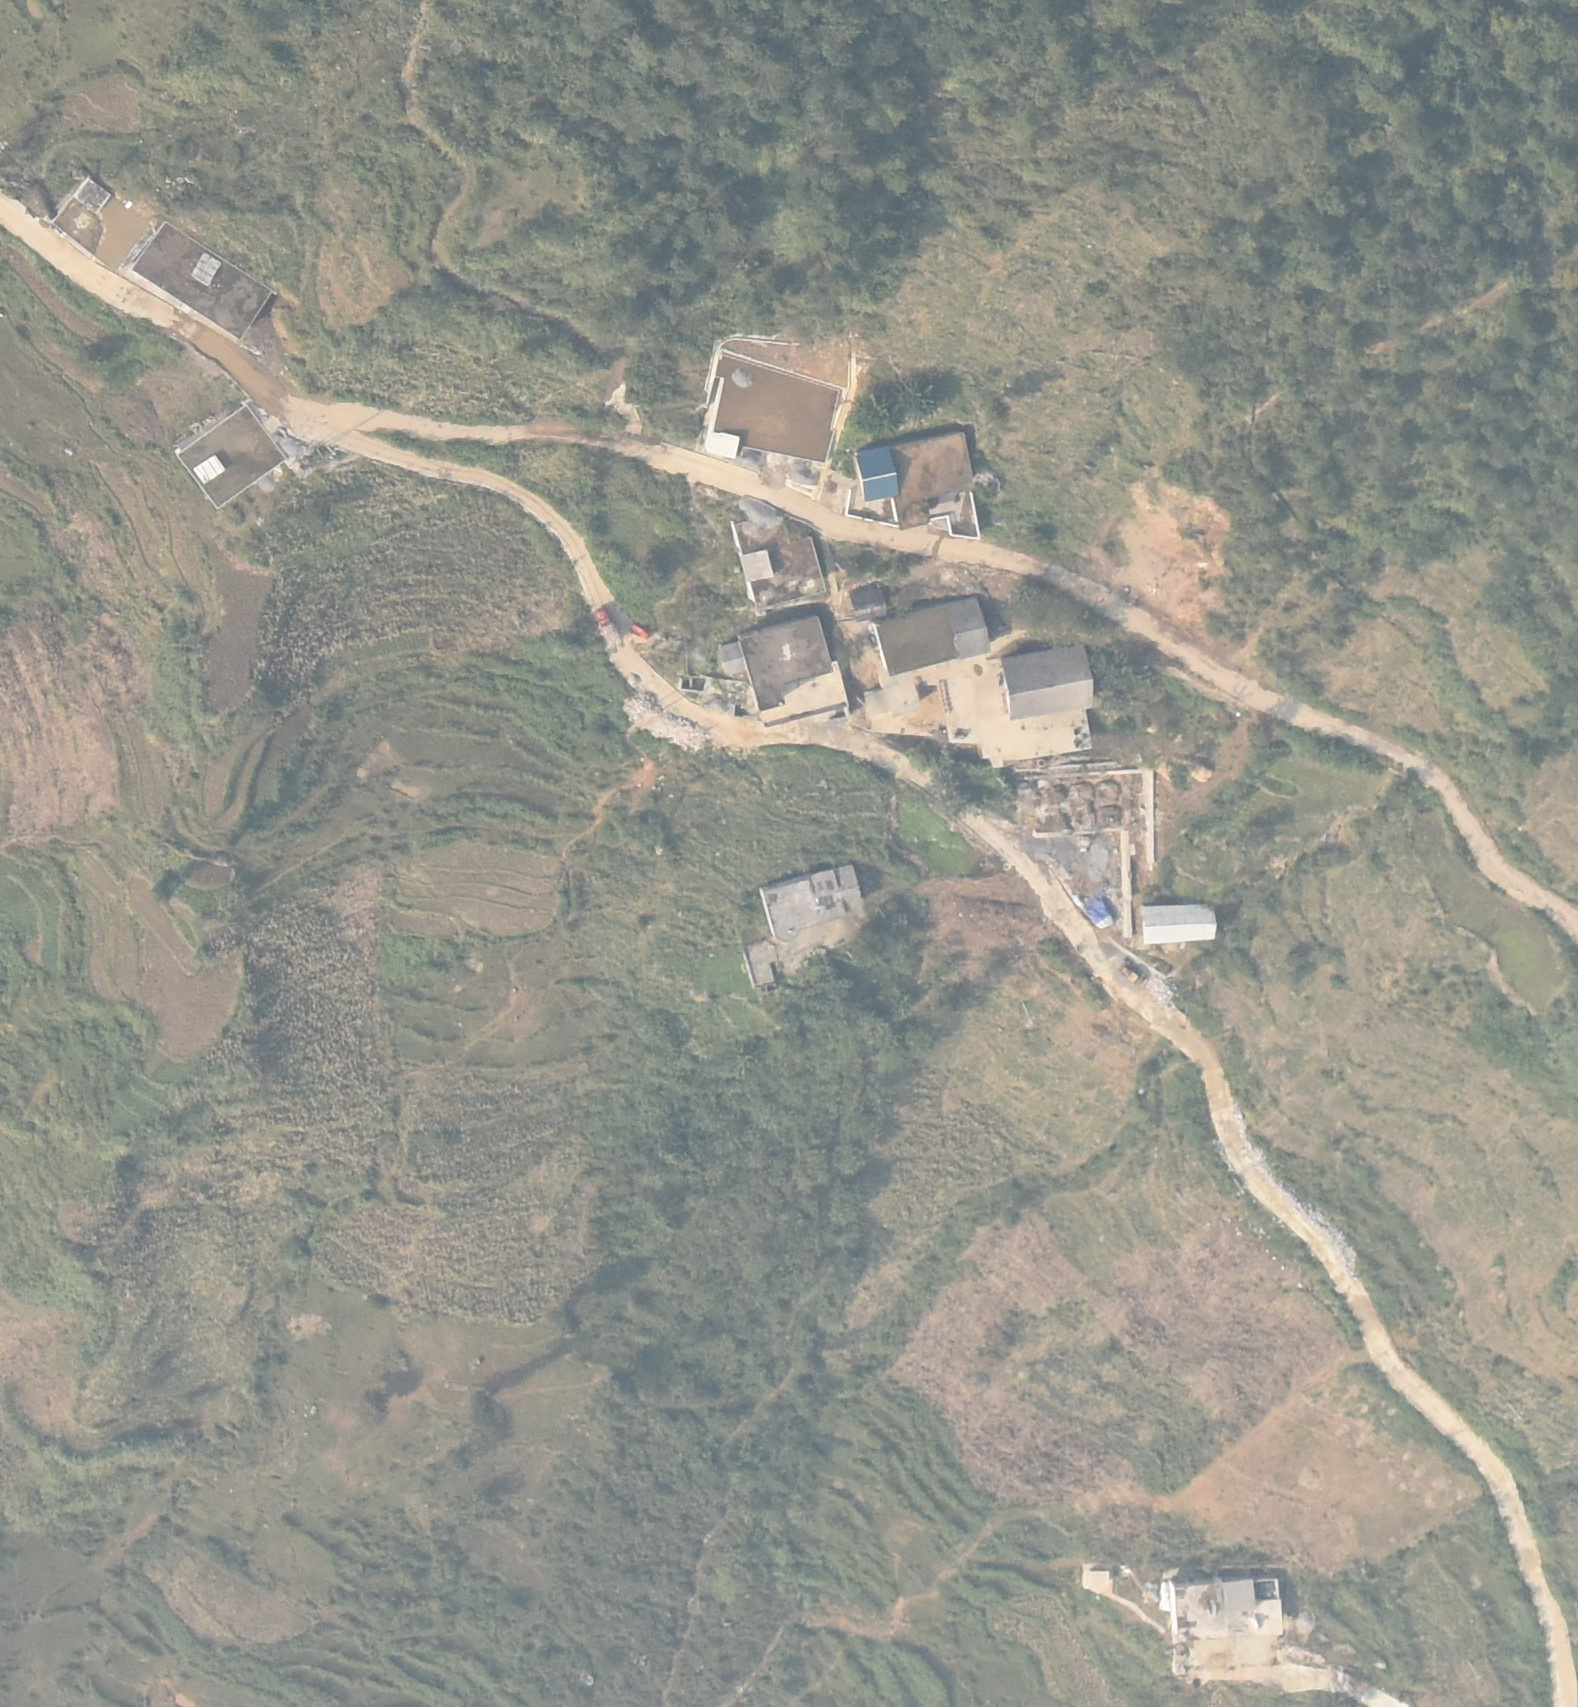building: (701, 342, 848, 480), (126, 216, 275, 349), (852, 428, 992, 538), (724, 616, 854, 732), (171, 404, 289, 512), (724, 512, 834, 617), (1153, 1572, 1297, 1650), (869, 593, 1002, 675), (754, 867, 875, 946), (996, 642, 1099, 723), (1136, 903, 1226, 946), (730, 932, 793, 987), (57, 175, 115, 210)
vehicle: (584, 604, 623, 651), (1112, 959, 1141, 984)
